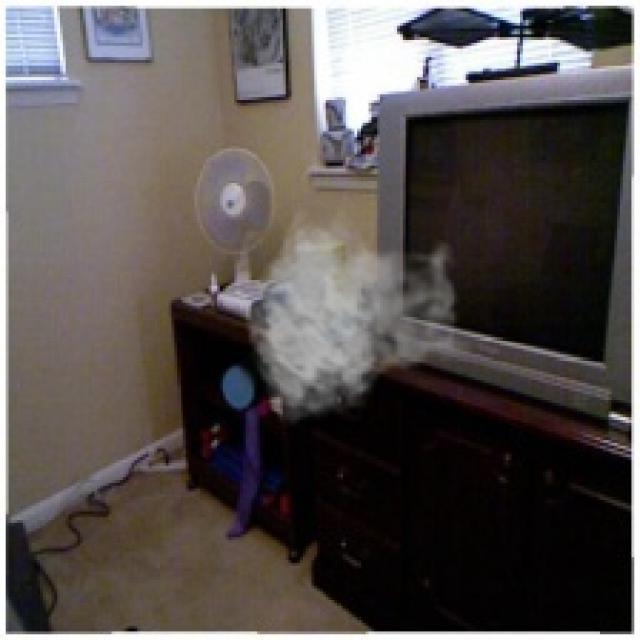Smoke: (243, 203, 474, 426)
